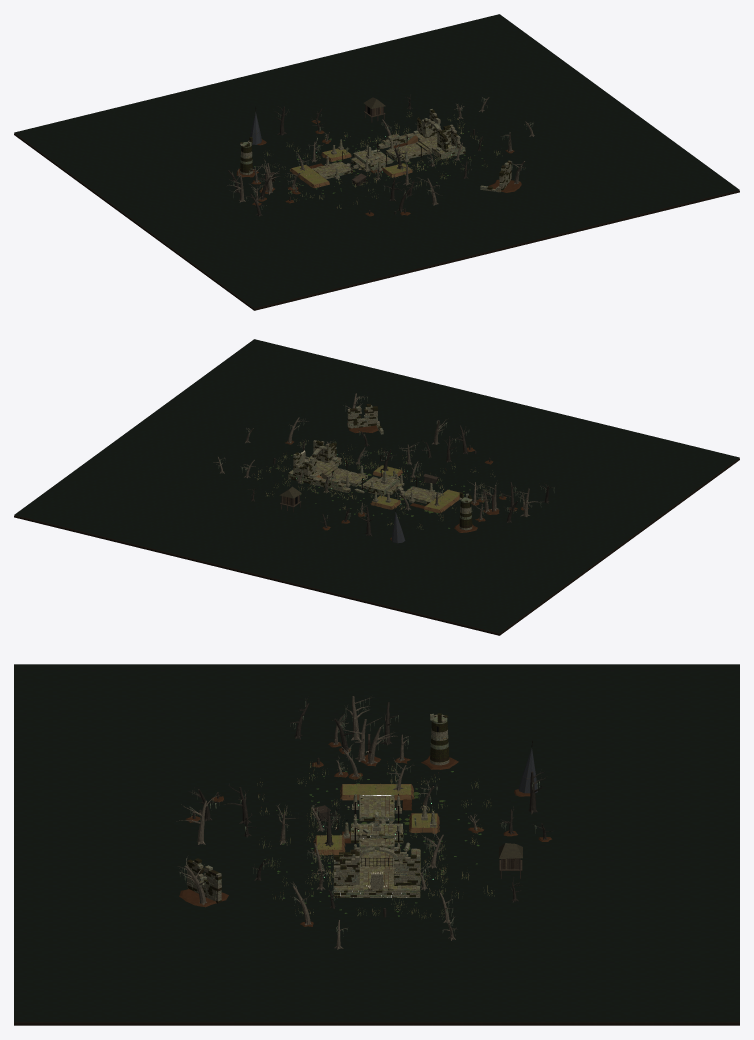
Rendered from sunken_causeway.glb.
3 views of the same model, one above another, from view 1: azimuth 30°, elevation 25°; view 2: azimuth 150°, elevation 25°; view 3: azimuth 270°, elevation 25° (orthographic). The views are drawn at different scales.
Parts seen in each view (by area): view 1: FX_Water swamp, Ruin masonry, Far trees, Outer bed, Flagstones, Reeds, Banks, Far ruins, Fen grass, Dead trees, Hanging moss; view 2: FX_Water swamp, Ruin masonry, Far trees, Outer bed, Flagstones, Far ruins, Reeds, Banks, Fen grass, Hanging moss, Dead trees; view 3: FX_Water swamp, Far trees, Ruin masonry, Outer bed, Flagstones, Reeds, Far ruins, Banks, Dead trees, Fen grass, Hanging moss, Far roofs (+1 smaller).
Part boxes in pixels (x1,y1,x2,y2): FX_Water swamp: [14, 14, 739, 308]; Ruin masonry: [312, 109, 465, 180]; Far trees: [227, 94, 534, 216]; Outer bed: [14, 133, 739, 310]; Flagstones: [313, 133, 464, 176]; Reeds: [254, 111, 502, 208]; Banks: [251, 120, 514, 216]; Far ruins: [240, 137, 511, 192]; Fen grass: [292, 148, 410, 184]; Dead trees: [296, 119, 466, 180]; Hanging moss: [231, 97, 533, 209]; FX_Water swamp: [14, 339, 739, 633]; Ruin masonry: [288, 440, 441, 504]; Far trees: [213, 393, 555, 536]; Outer bed: [14, 458, 739, 635]; Flagstones: [289, 456, 440, 501]; Far ruins: [347, 404, 472, 530]; Reeds: [251, 439, 500, 529]; Banks: [285, 440, 528, 530]; Fen grass: [374, 465, 459, 509]; Hanging moss: [218, 397, 554, 519]; Dead trees: [297, 441, 444, 510]; FX_Water swamp: [14, 664, 739, 1022]; Far trees: [176, 696, 552, 949]; Ruin masonry: [333, 794, 436, 897]; Outer bed: [14, 1022, 739, 1025]; Flagstones: [334, 795, 419, 889]; Reeds: [257, 761, 494, 919]; Far ruins: [186, 713, 449, 903]; Banks: [185, 742, 551, 926]; Dead trees: [307, 758, 443, 890]; Fen grass: [316, 784, 437, 849]; Hanging moss: [179, 698, 539, 936]; Far roofs: [499, 748, 537, 858].
Bounding box in the file's own units: 98 × 7.97 × 84.
36 materials, 36 textured.
